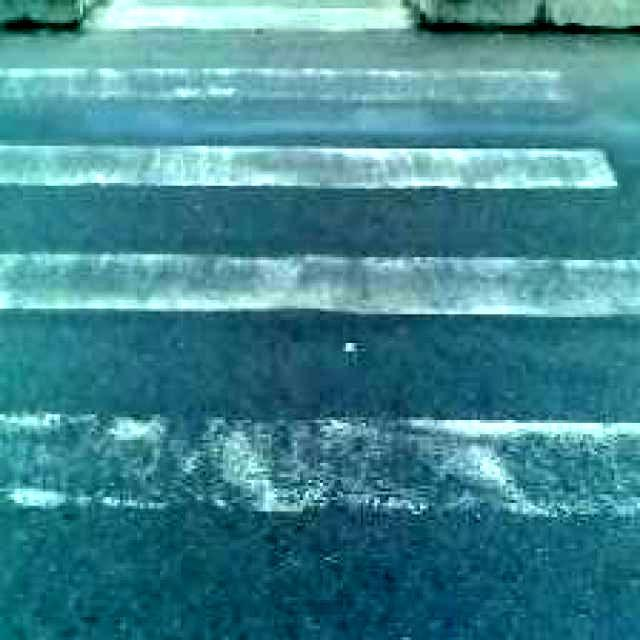crosswalk: (0, 34, 640, 556)
